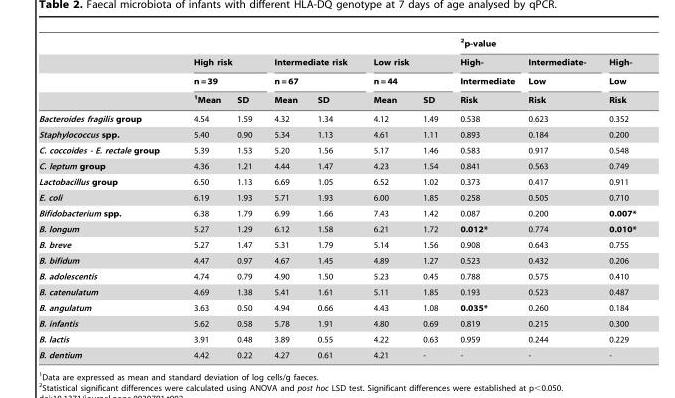table: (37, 37, 635, 359)
table column: (37, 37, 175, 359), (520, 37, 596, 359), (448, 37, 520, 359), (175, 37, 228, 359), (306, 37, 359, 359), (359, 37, 409, 359), (262, 37, 306, 359), (409, 37, 448, 359), (596, 37, 635, 359), (228, 37, 262, 359)
table column header: (37, 37, 635, 109)
table row: (37, 89, 635, 109), (37, 52, 635, 71), (37, 71, 635, 89), (37, 109, 635, 126), (37, 126, 635, 142), (37, 142, 635, 158), (37, 173, 635, 189), (37, 189, 635, 205), (37, 205, 635, 221), (37, 236, 635, 252), (37, 252, 635, 268), (37, 268, 635, 284), (37, 299, 635, 315), (37, 315, 635, 331), (37, 331, 635, 347), (37, 37, 635, 52), (37, 158, 635, 173), (37, 221, 635, 236), (37, 284, 635, 299), (37, 347, 635, 359)
table spanning cell: (520, 52, 596, 109), (448, 52, 520, 109), (262, 52, 359, 89), (359, 52, 448, 89), (175, 52, 262, 89), (448, 37, 635, 52), (596, 52, 635, 109)
